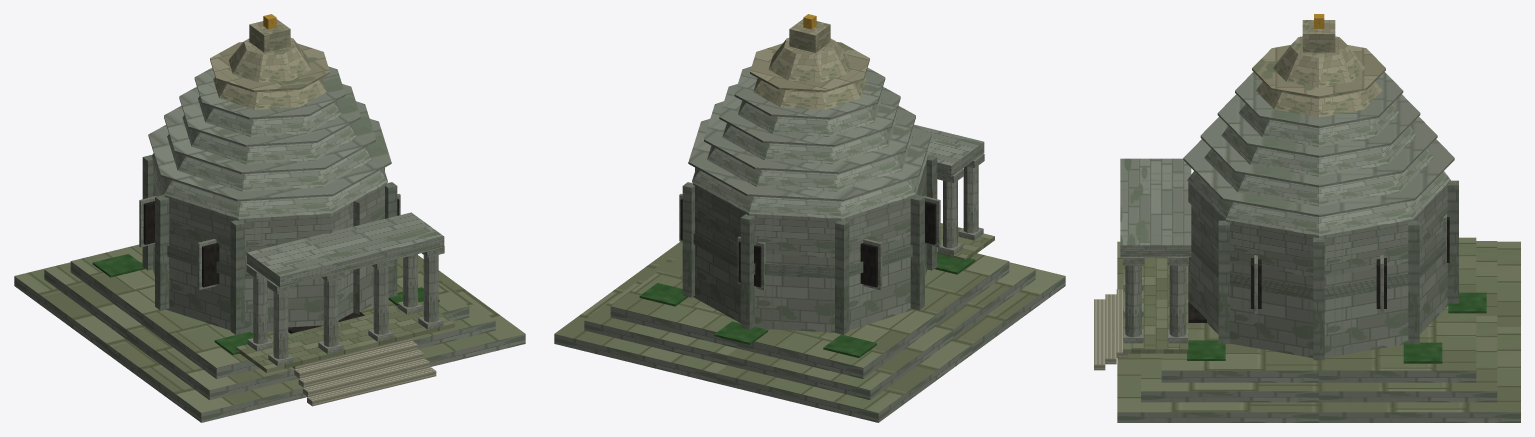
The model's file is ae_jungle_dome_temple_lod2.glb.
3 views of the same model, side by side, from view 1: azimuth 30°, elevation 25°; view 2: azimuth 150°, elevation 25°; view 3: azimuth 270°, elevation 25° (orthographic). The views are drawn at different scales.
Visible parts, largest first — view 1: ae_jungle_dome_temple_lod2; view 2: ae_jungle_dome_temple_lod2; view 3: ae_jungle_dome_temple_lod2.
Part boxes in pixels (<box>): ae_jungle_dome_temple_lod2: <box>14,14,525,422</box>; ae_jungle_dome_temple_lod2: <box>554,14,1065,422</box>; ae_jungle_dome_temple_lod2: <box>1094,14,1520,422</box>.
Bounding box in the file's own units: 10.99 × 9.66 × 11.62.
Materials: 1 (1 with a texture image).
